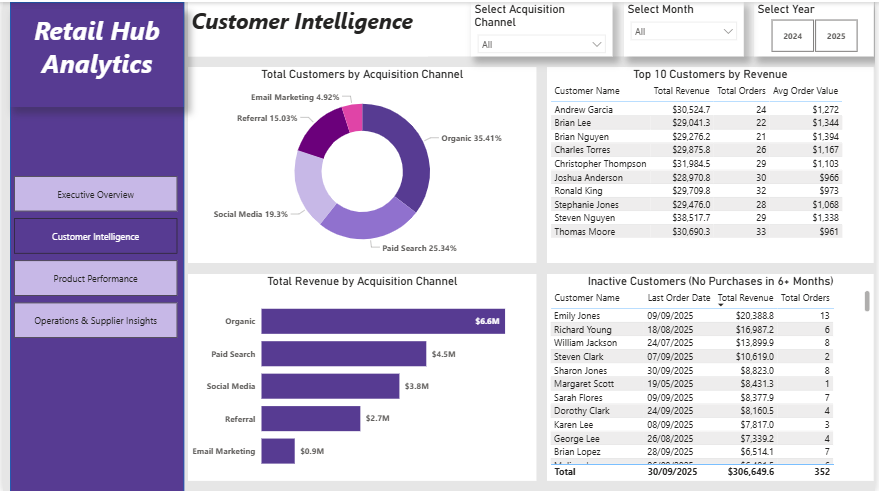

What the dashboard file says about the page in this screenshot:
{"tool":"powerbi","page":{"name":"Customer Intelligence","canvas":[1280,720],"ordinal":1},"visuals":[{"type":"clusteredBarChart","title":"Total Revenue by Acquisition Channel","fields":{"Category":["customers.acquisition_channel"],"Y":["_Measures.Total Revenue (Non-Cancelled)"]},"box":[272,400,512,304],"z":0},{"type":"tableEx","title":"Top 10 Customers by Revenue","fields":{"Values":["customers.Customer Name","_Measures.Total Revenue (Non-Cancelled)","_Measures.Total Orders","_Measures.Avg Order Value"]},"box":[800,96,480,288],"z":1000},{"type":"tableEx","title":"Inactive Customers (No Purchases in 6+ Months)","fields":{"Values":["customers.Customer Name","_Measures.Last Order Date","_Measures.Total Revenue (Non-Cancelled)","_Measures.Total Orders (Non-Cancelled)"]},"box":[800,400,480,304],"z":2000},{"type":"donutChart","title":"Total Customers by Acquisition Channel","fields":{"Category":["customers.acquisition_channel"],"Y":["_Measures.Total Customers"]},"box":[272,96,512,288],"z":3000},{"type":"shape","box":[272,0,1008,80],"z":3001},{"type":"textbox","box":[272,0,352,80],"z":3006},{"type":"shape","box":[10,0,256,720],"z":3007},{"type":"textbox","box":[10,10,256,144],"z":3008},{"type":"pageNavigator","box":[16,256,240,240],"z":3009},{"type":"slicer","title":"Select Acquisition Channel","fields":{"Values":["customers.acquisition_channel"]},"box":[688,0,208,80],"z":3010},{"type":"slicer","title":"Select Year","fields":{"Values":["orders.order_date.Variation.Date Hierarchy.Year"]},"box":[1104,0,176,80],"z":3011},{"type":"slicer","title":"Select Month","fields":{"Values":["customers.registration_date.Variation.Date Hierarchy.Month"]},"box":[912,0,176,80],"z":3012}]}

Visuals, with their boxes in screenshot pixels (x1, y1, x2, y2), scaled from the page's 1280x720 canvas onto the 879x491 screenshot:
"Total Revenue by Acquisition Channel" clusteredBarChart: x1=187, y1=273, x2=538, y2=480
"Top 10 Customers by Revenue" tableEx: x1=549, y1=65, x2=878, y2=262
"Inactive Customers (No Purchases in 6+ Months)" tableEx: x1=549, y1=273, x2=878, y2=480
"Total Customers by Acquisition Channel" donutChart: x1=187, y1=65, x2=538, y2=262
shape: x1=187, y1=0, x2=878, y2=55
textbox: x1=187, y1=0, x2=429, y2=55
shape: x1=7, y1=0, x2=183, y2=490
textbox: x1=7, y1=7, x2=183, y2=105
pageNavigator: x1=11, y1=175, x2=176, y2=338
"Select Acquisition Channel" slicer: x1=472, y1=0, x2=615, y2=55
"Select Year" slicer: x1=758, y1=0, x2=878, y2=55
"Select Month" slicer: x1=626, y1=0, x2=747, y2=55
